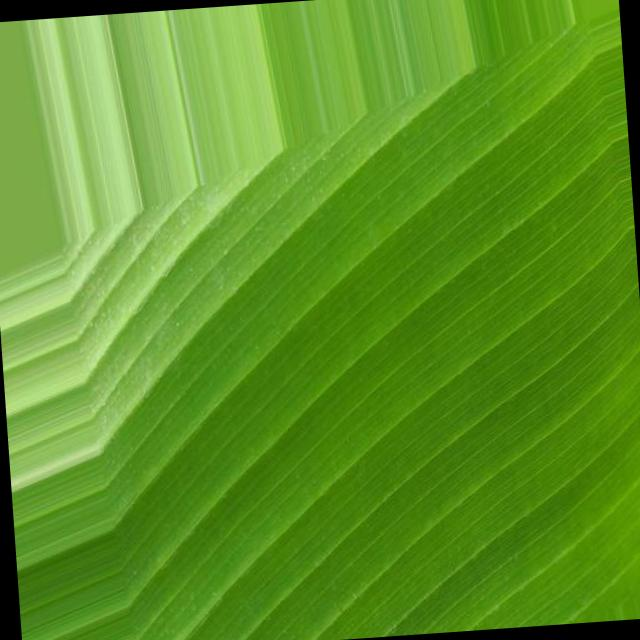Banana_Healthy: (181, 225, 585, 640)
